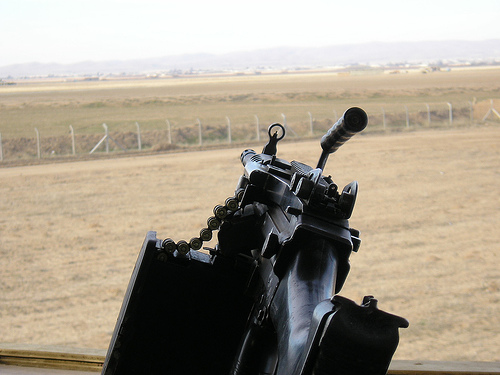rifle: (184, 109, 394, 317)
